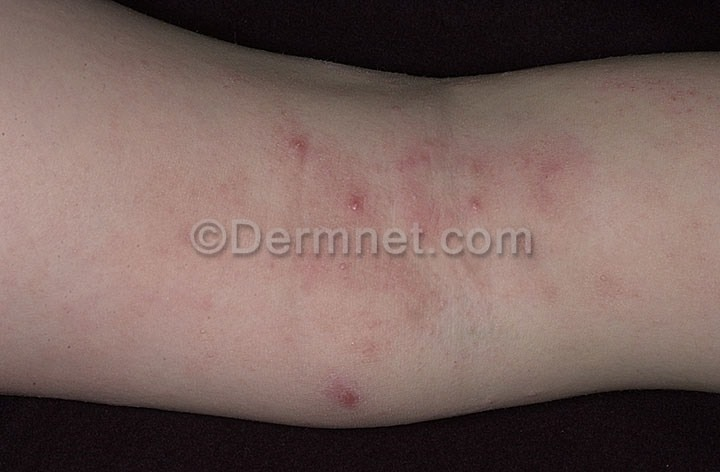Eczema: (212, 60, 719, 320), (337, 320, 432, 365), (314, 369, 377, 417)
